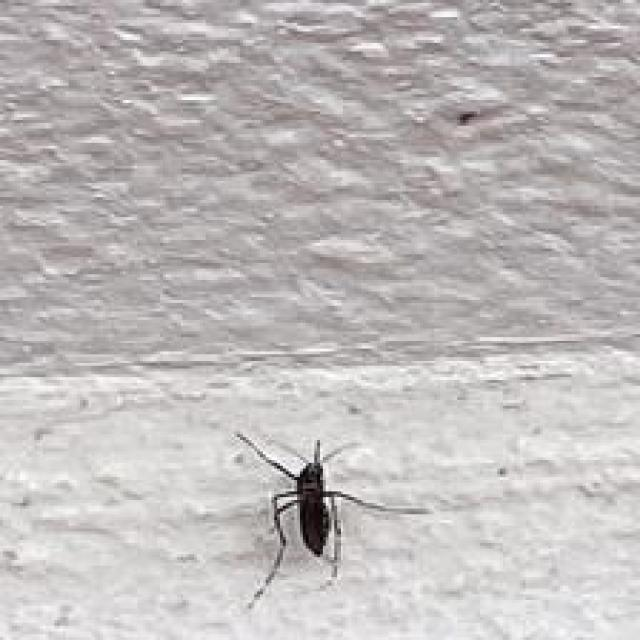Aedes albopictus: (233, 430, 430, 610)
